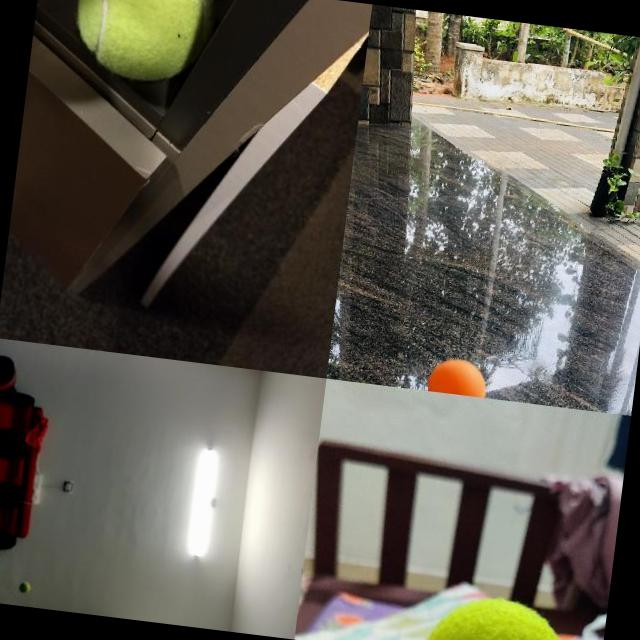Tennis Ball: (69, 0, 219, 89), (418, 587, 576, 640), (19, 580, 32, 594)
